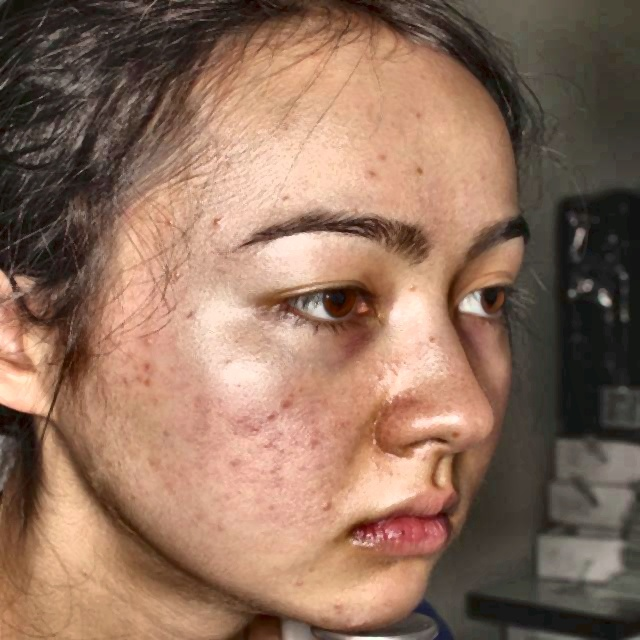comedone: (132, 359, 168, 393), (133, 327, 161, 349)
